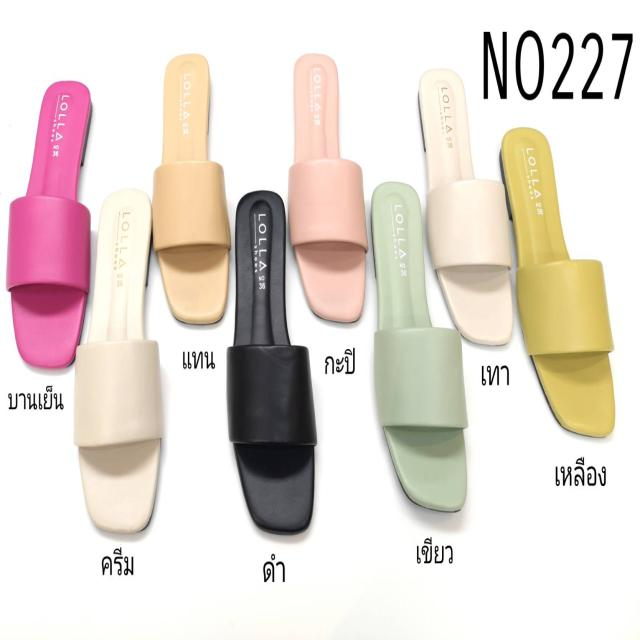banyen: (11, 77, 94, 369)
black: (226, 189, 316, 537)
cream: (77, 193, 161, 533)
green: (370, 184, 470, 515)
grey: (417, 66, 513, 348)
kapi: (294, 49, 365, 321)
tan: (153, 54, 234, 327)
yellow: (502, 127, 613, 443)
